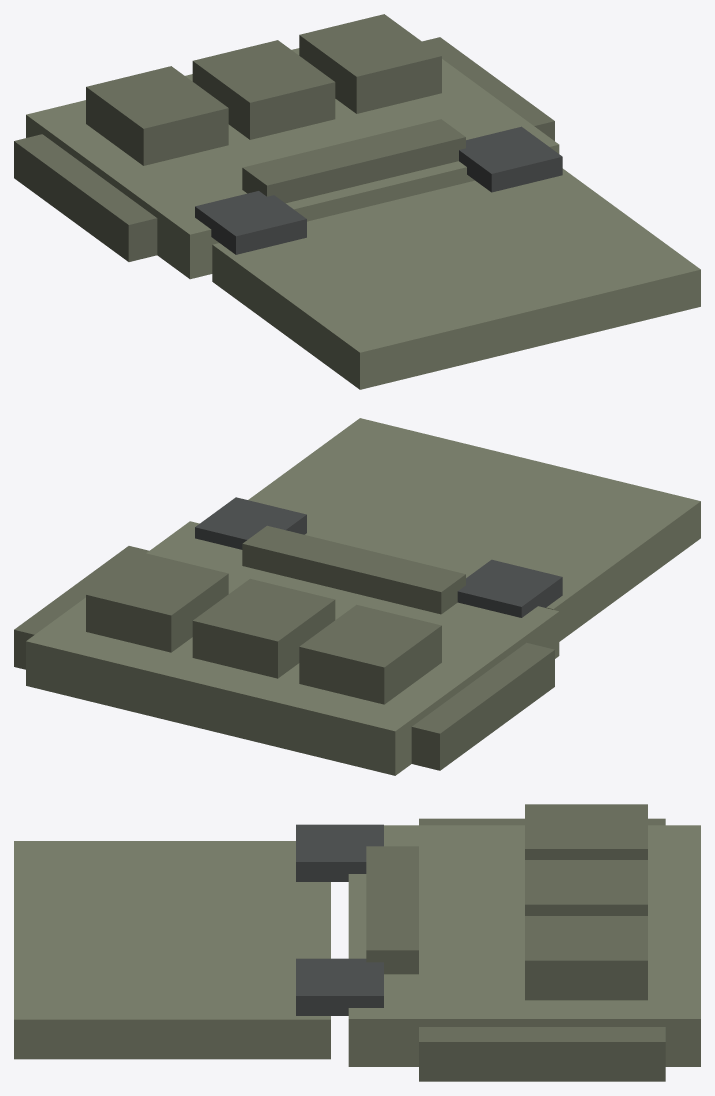
The model's file is vest_heavy.glb.
3 renders of one model, top to bottom at view 1: azimuth 30°, elevation 25°; view 2: azimuth 150°, elevation 25°; view 3: azimuth 270°, elevation 25°, orthographic. The views are drawn at different scales.
Visible parts, largest first — view 1: vest_heavy; view 2: vest_heavy; view 3: vest_heavy.
Part boxes in pixels (<box>): vest_heavy: <box>14,14,700,389</box>; vest_heavy: <box>14,418,700,775</box>; vest_heavy: <box>14,804,700,1081</box>.
Size of the model in its own units: 0.6 by 0.11 by 0.78.
